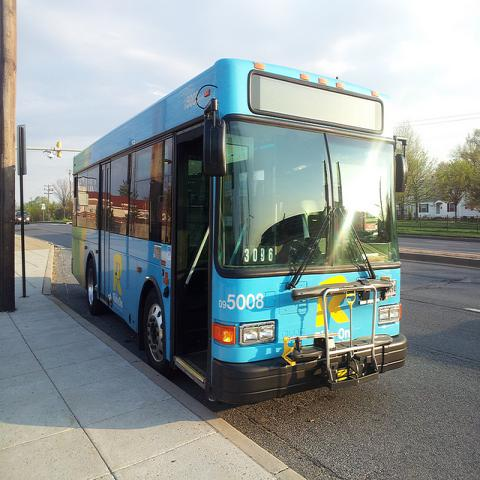bus: (69, 60, 406, 406)
car: (15, 211, 30, 226)
